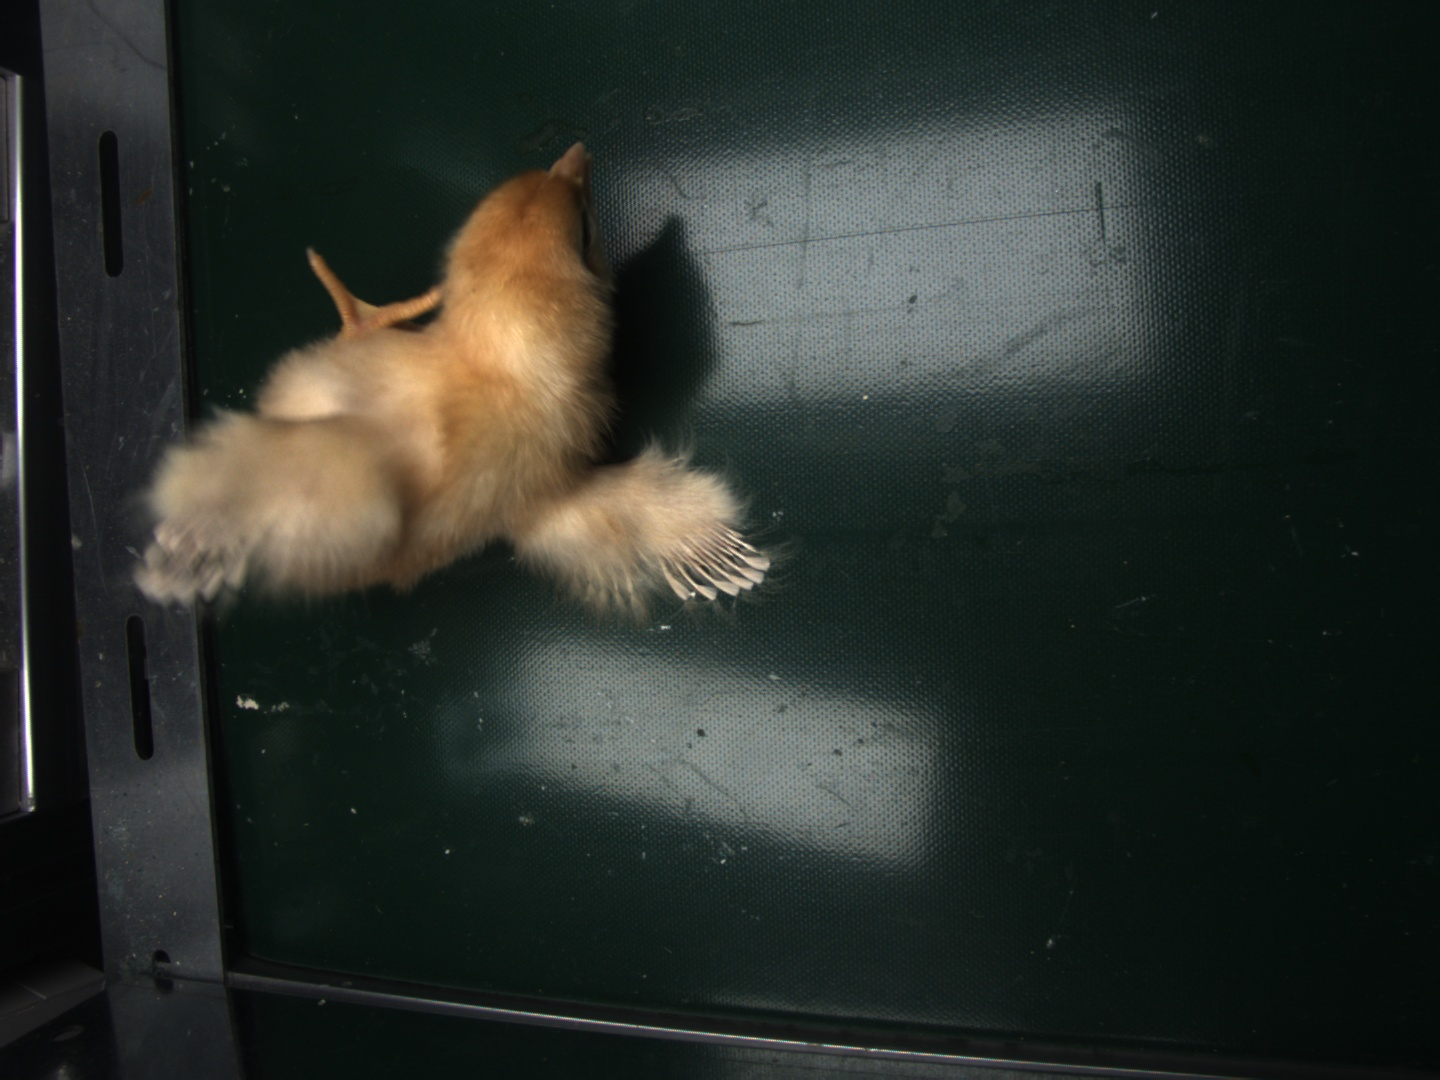female: (667, 524, 776, 609)
